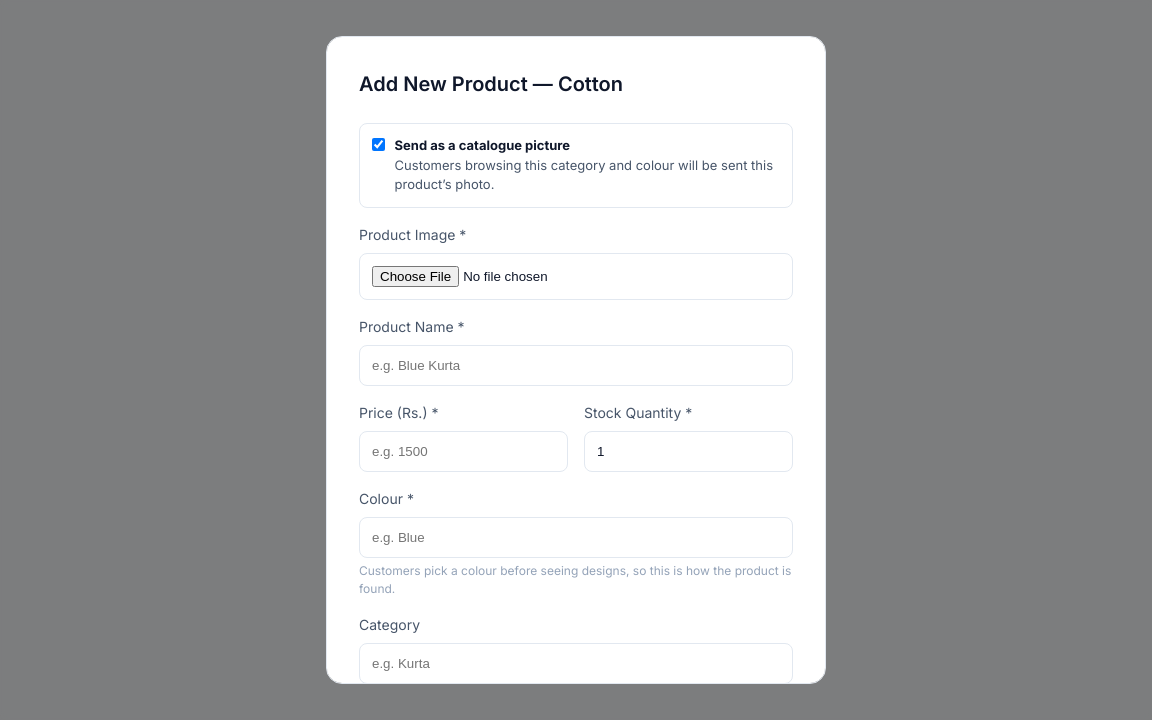
Scenario: Seller form: catalogue-picture required fields › refuses to save a picture product with no image
Type "Blue Kurta" into the field labelled "Product Name" at {"x": 576, "y": 365}, box x1=359 y1=344 x2=793 y2=386
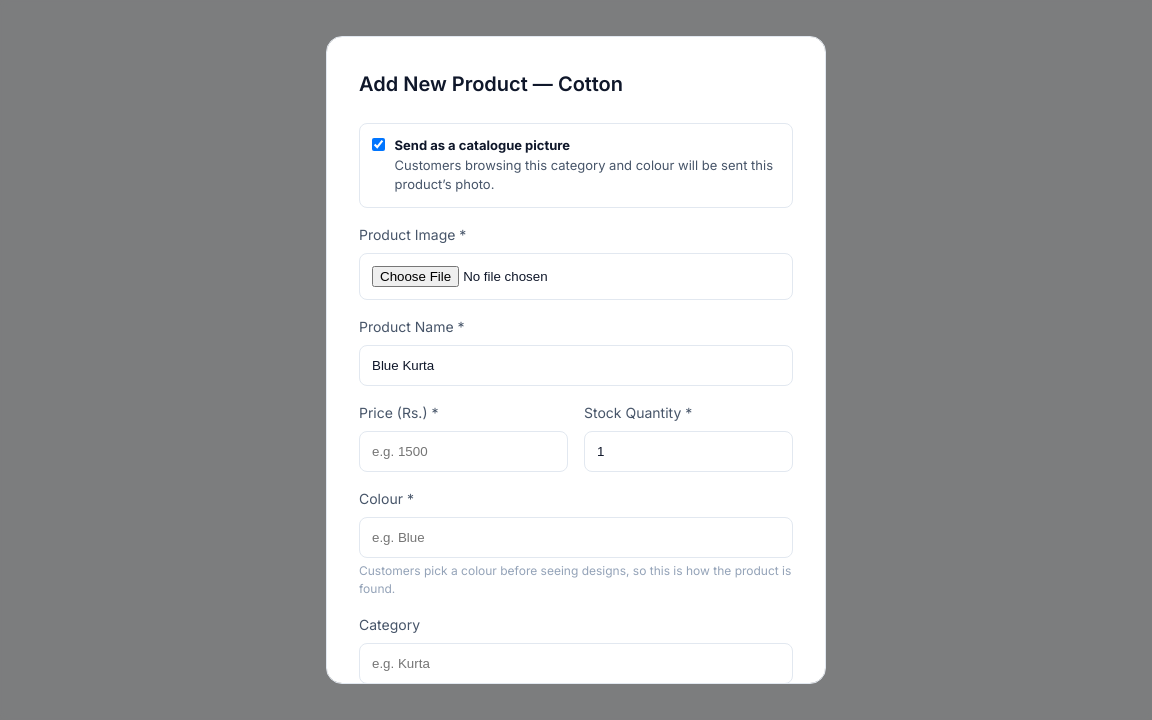
Type "2500" into the number field labelled "Price" at {"x": 464, "y": 451}, box x1=359 y1=430 x2=568 y2=472
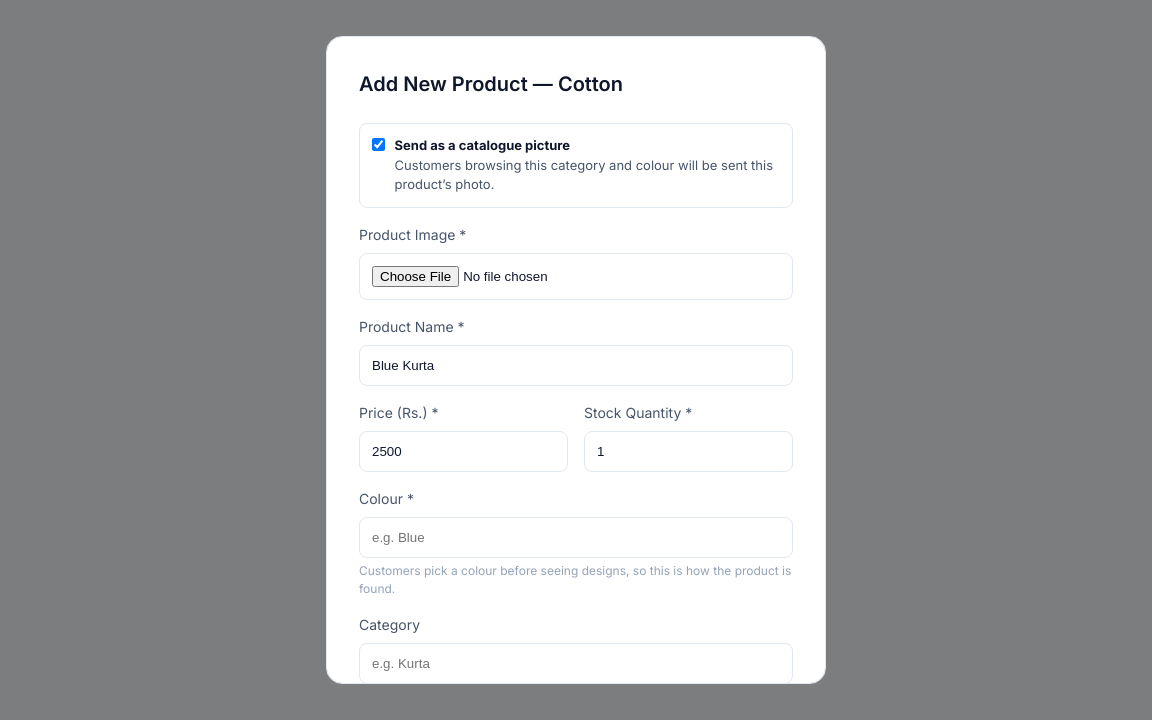
Replace the text in the number field labelled "Stock Quantity" with "3" at {"x": 688, "y": 451}, box x1=584 y1=430 x2=793 y2=472
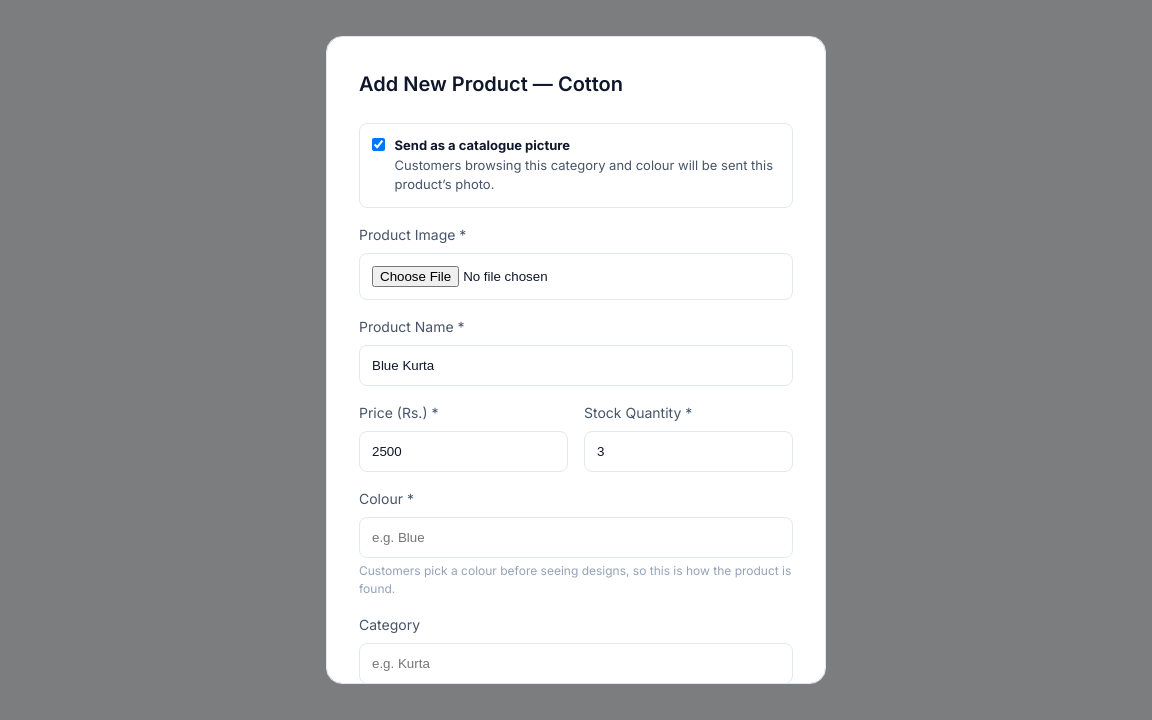
Type "Blue" into the field labelled "Colour" at {"x": 576, "y": 537}, box x1=359 y1=516 x2=793 y2=558
(page scrolled)
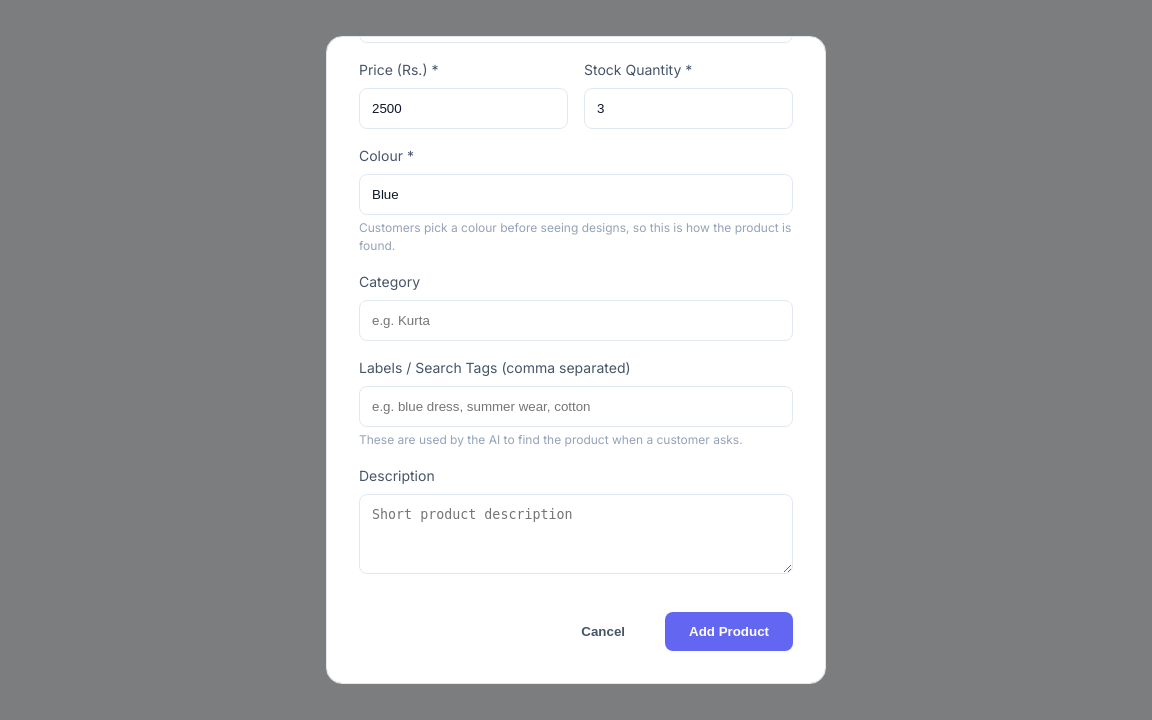
Click the button "Add Product" at {"x": 729, "y": 631}, box x1=665 y1=612 x2=793 y2=650
(page scrolled)
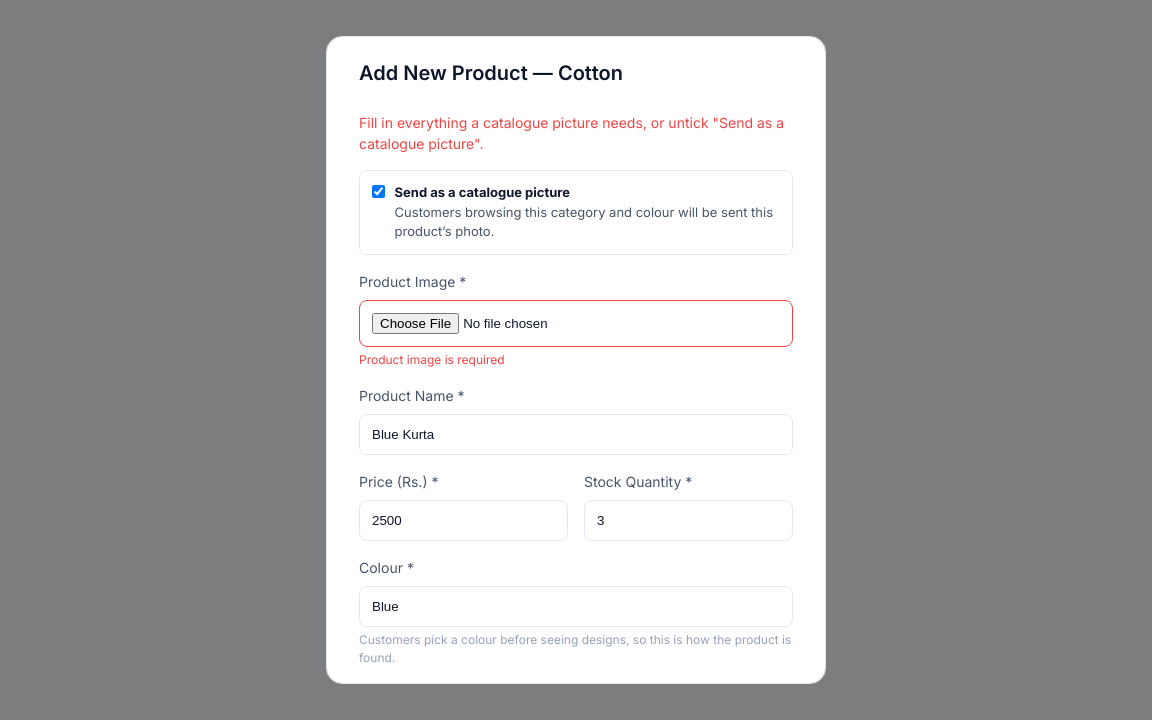
Result: the text "Product image is required" is shown at x1=359 y1=352 x2=505 y2=366
